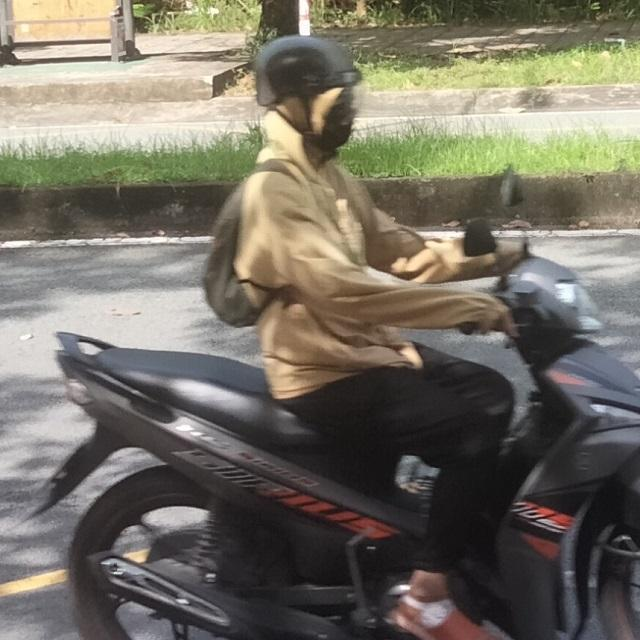Helmet: (252, 28, 361, 152)
